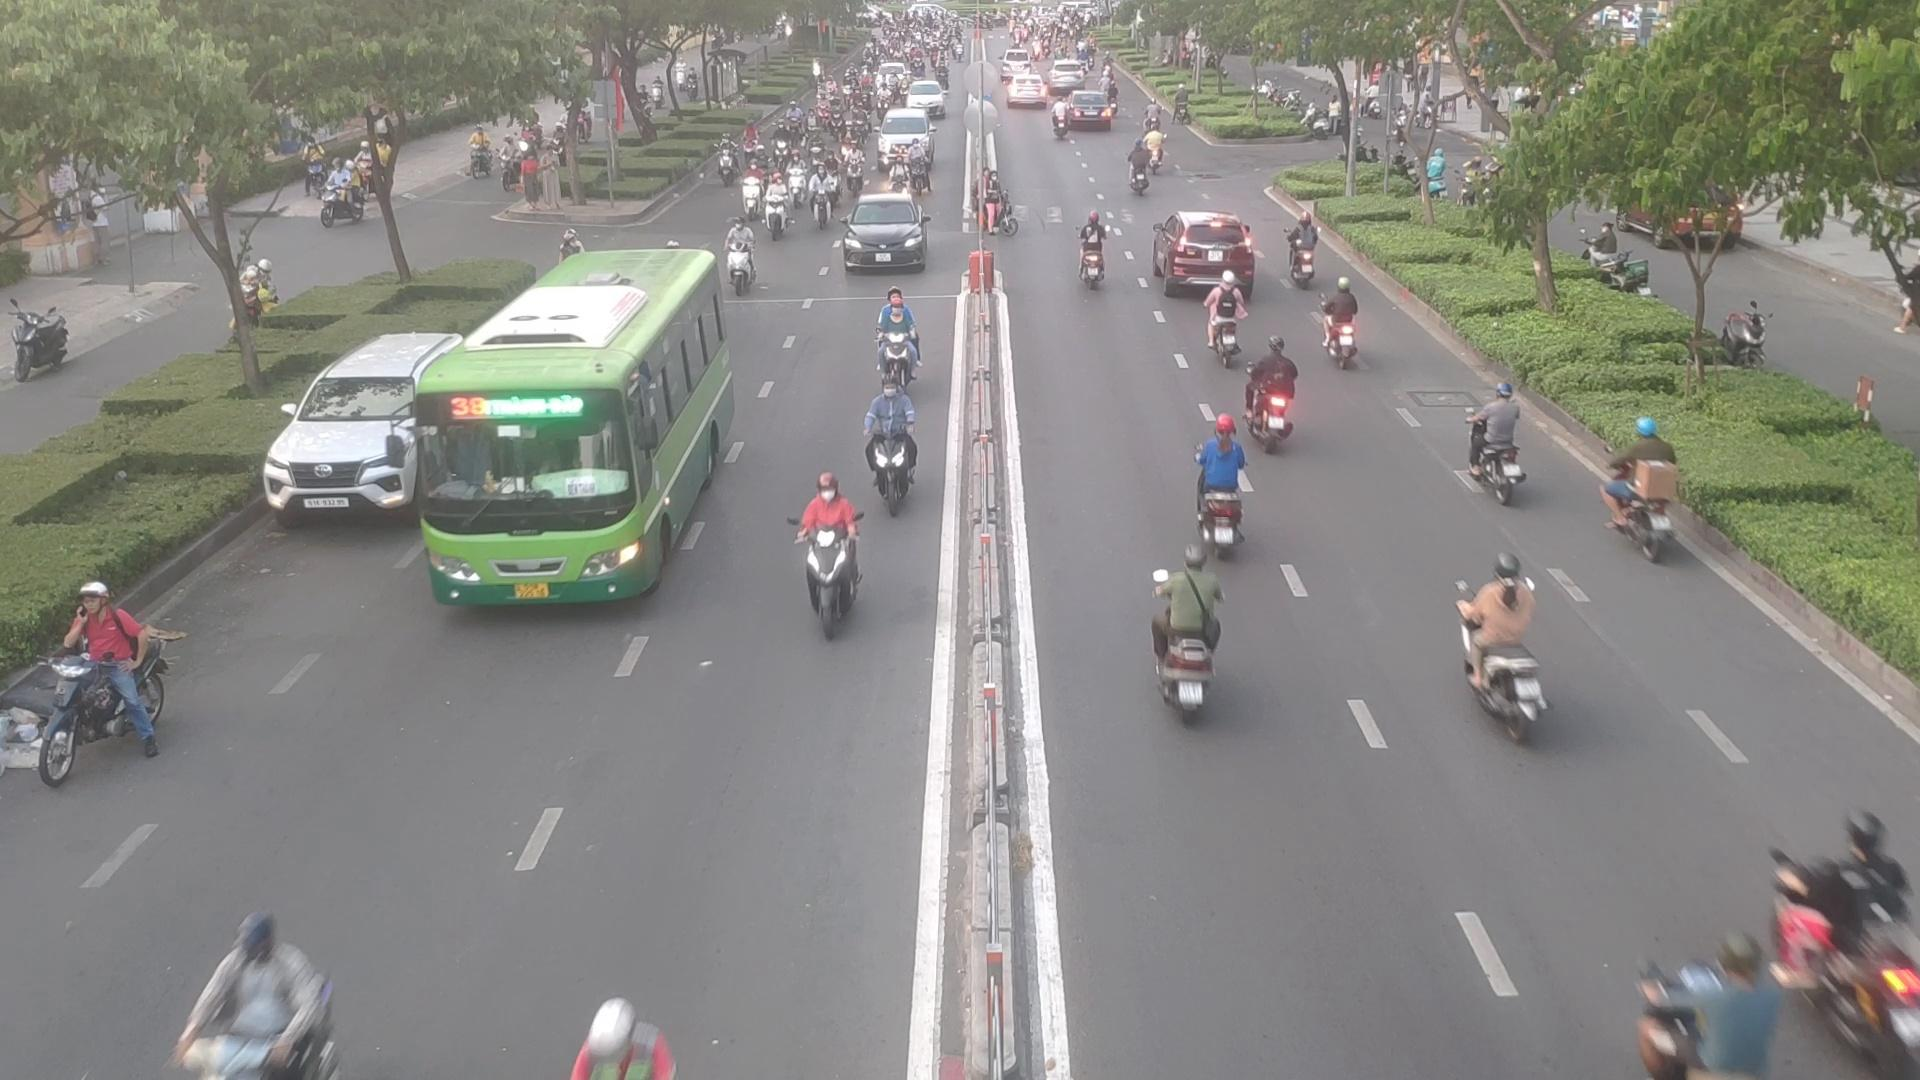bus: (413, 248, 742, 611)
car: (265, 330, 438, 525), (1154, 208, 1250, 289), (837, 195, 928, 274)
motorbike: (1776, 804, 1920, 1080), (8, 585, 177, 785), (167, 926, 338, 1080), (1631, 942, 1775, 1080), (1457, 562, 1563, 749), (1130, 571, 1218, 717), (794, 488, 870, 633), (562, 1000, 679, 1080), (1460, 384, 1535, 497), (857, 386, 923, 513), (1196, 425, 1258, 550), (1244, 340, 1311, 444), (869, 293, 924, 385), (1320, 287, 1371, 373), (1211, 266, 1247, 367), (1072, 212, 1116, 287), (724, 224, 756, 294), (756, 185, 791, 236), (812, 165, 845, 219), (1125, 145, 1158, 196)
